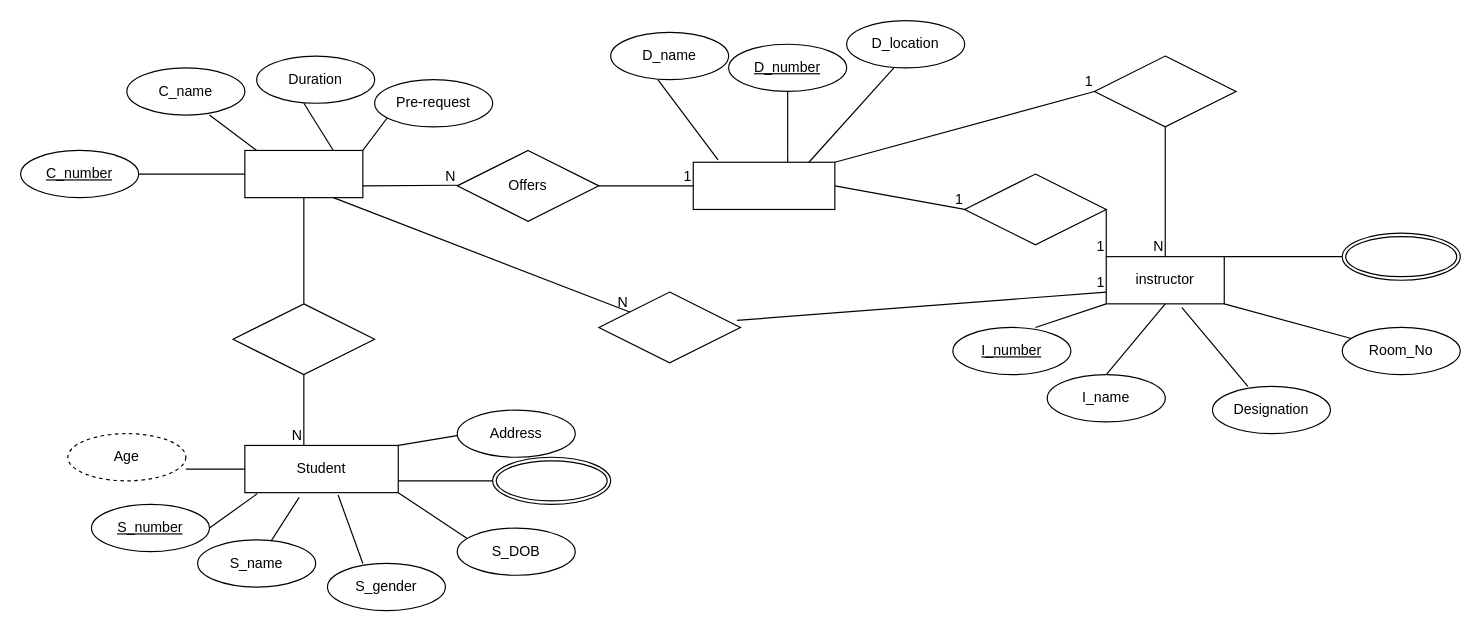
This 1481x631 diagram has some shape labels left out. Here are the shapes that lost their labels. From the top down, the box of each, then its label:
(1093, 55, 1236, 127): has
(244, 149, 363, 198): Course
(692, 161, 835, 209): Department
(963, 173, 1106, 245): needed by
(1341, 232, 1460, 280): Mobile_no
(232, 303, 375, 375): Enrolled by
(598, 291, 740, 363): Taught by
(491, 456, 611, 504): Email
